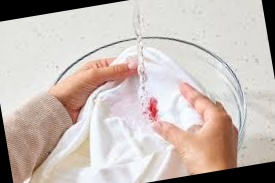blood: (140, 97, 161, 121)
